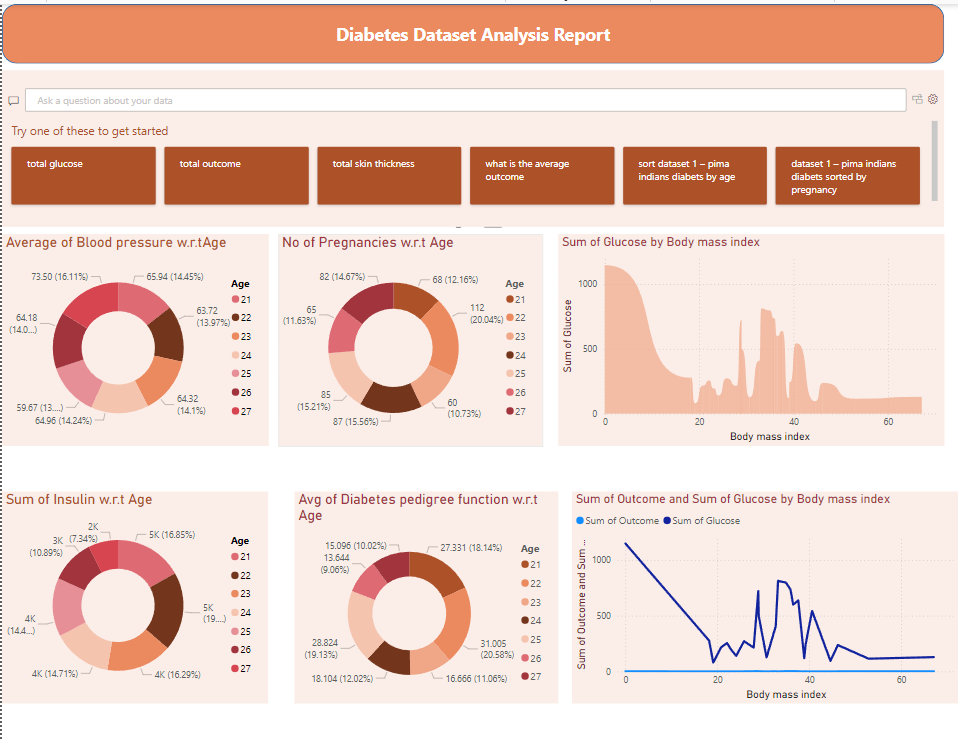

The dashboard page shown, as its layout file describes it:
{"tool":"powerbi","page":{"name":"Page 1","canvas":[1300,1000],"ordinal":0},"visuals":[{"type":"donutChart","title":"Average of Blood pressure w.r.tAge","fields":{"Y":["Avg(Dataset 1 – Pima Indians diabet.Blood pressure)"],"Series":["Dataset 1 – Pima Indians diabet.Age"]},"box":[0,312.9,362.3,288.2],"z":0},{"type":"donutChart","title":"No of Pregnancies w.r.t Age","fields":{"Series":["Dataset 1 – Pima Indians diabet.Age"],"Y":["Sum(Dataset 1 – Pima Indians diabet.Pregnancies)"]},"box":[376,312.9,359.5,288.2],"z":1000},{"type":"shape","box":[0,0,1280.3,81],"z":2000},{"type":"qnaVisual","box":[0,90.6,1280.3,212.7],"z":3000},{"type":"ribbonChart","fields":{"Category":["Dataset 1 – Pima Indians diabet.Body mass index"],"Y":["Sum(Dataset 1 – Pima Indians diabet.Glucose)"]},"box":[755,313,525,288],"z":4000},{"type":"donutChart","title":"Sum of Insulin w.r.t Age","fields":{"Y":["Sum(Dataset 1 – Pima Indians diabet.Insulin)"],"Series":["Dataset 1 – Pima Indians diabet.Age"]},"box":[0,661.7,361.7,288.3],"z":4001},{"type":"donutChart","title":"Avg of Diabetes pedigree function w.r.t Age","fields":{"Y":["Sum(Dataset 1 – Pima Indians diabet.Diabetes pedigree function)"],"Series":["Dataset 1 – Pima Indians diabet.Age"]},"box":[396.7,661.7,358.3,288.3],"z":4002},{"type":"lineChart","fields":{"Category":["Dataset 1 – Pima Indians diabet.Body mass index"],"Y":["Sum(Dataset 1 – Pima Indians diabet.Outcome)","Sum(Dataset 1 – Pima Indians diabet.Glucose)"]},"box":[775,661.7,525,288.3],"z":4003}]}

Visuals, with their boxes in screenshot pixels (x1, y1, x2, y2), scaled from the page's 1300x1000 canvas onto the 958x740 screenshot:
"Average of Blood pressure w.r.tAge" donutChart: region(0, 232, 267, 445)
"No of Pregnancies w.r.t Age" donutChart: region(277, 232, 542, 445)
shape: region(0, 0, 943, 60)
qnaVisual: region(0, 67, 943, 224)
ribbonChart - Dataset 1 – Pima Indians diabet.Body mass index x Sum(Dataset 1 – Pima Indians diabet.Glucose): region(556, 232, 943, 445)
"Sum of Insulin w.r.t Age" donutChart: region(0, 490, 267, 703)
"Avg of Diabetes pedigree function w.r.t Age" donutChart: region(292, 490, 556, 703)
lineChart - Dataset 1 – Pima Indians diabet.Body mass index x Sum(Dataset 1 – Pima Indians diabet.Outcome): region(571, 490, 957, 703)
